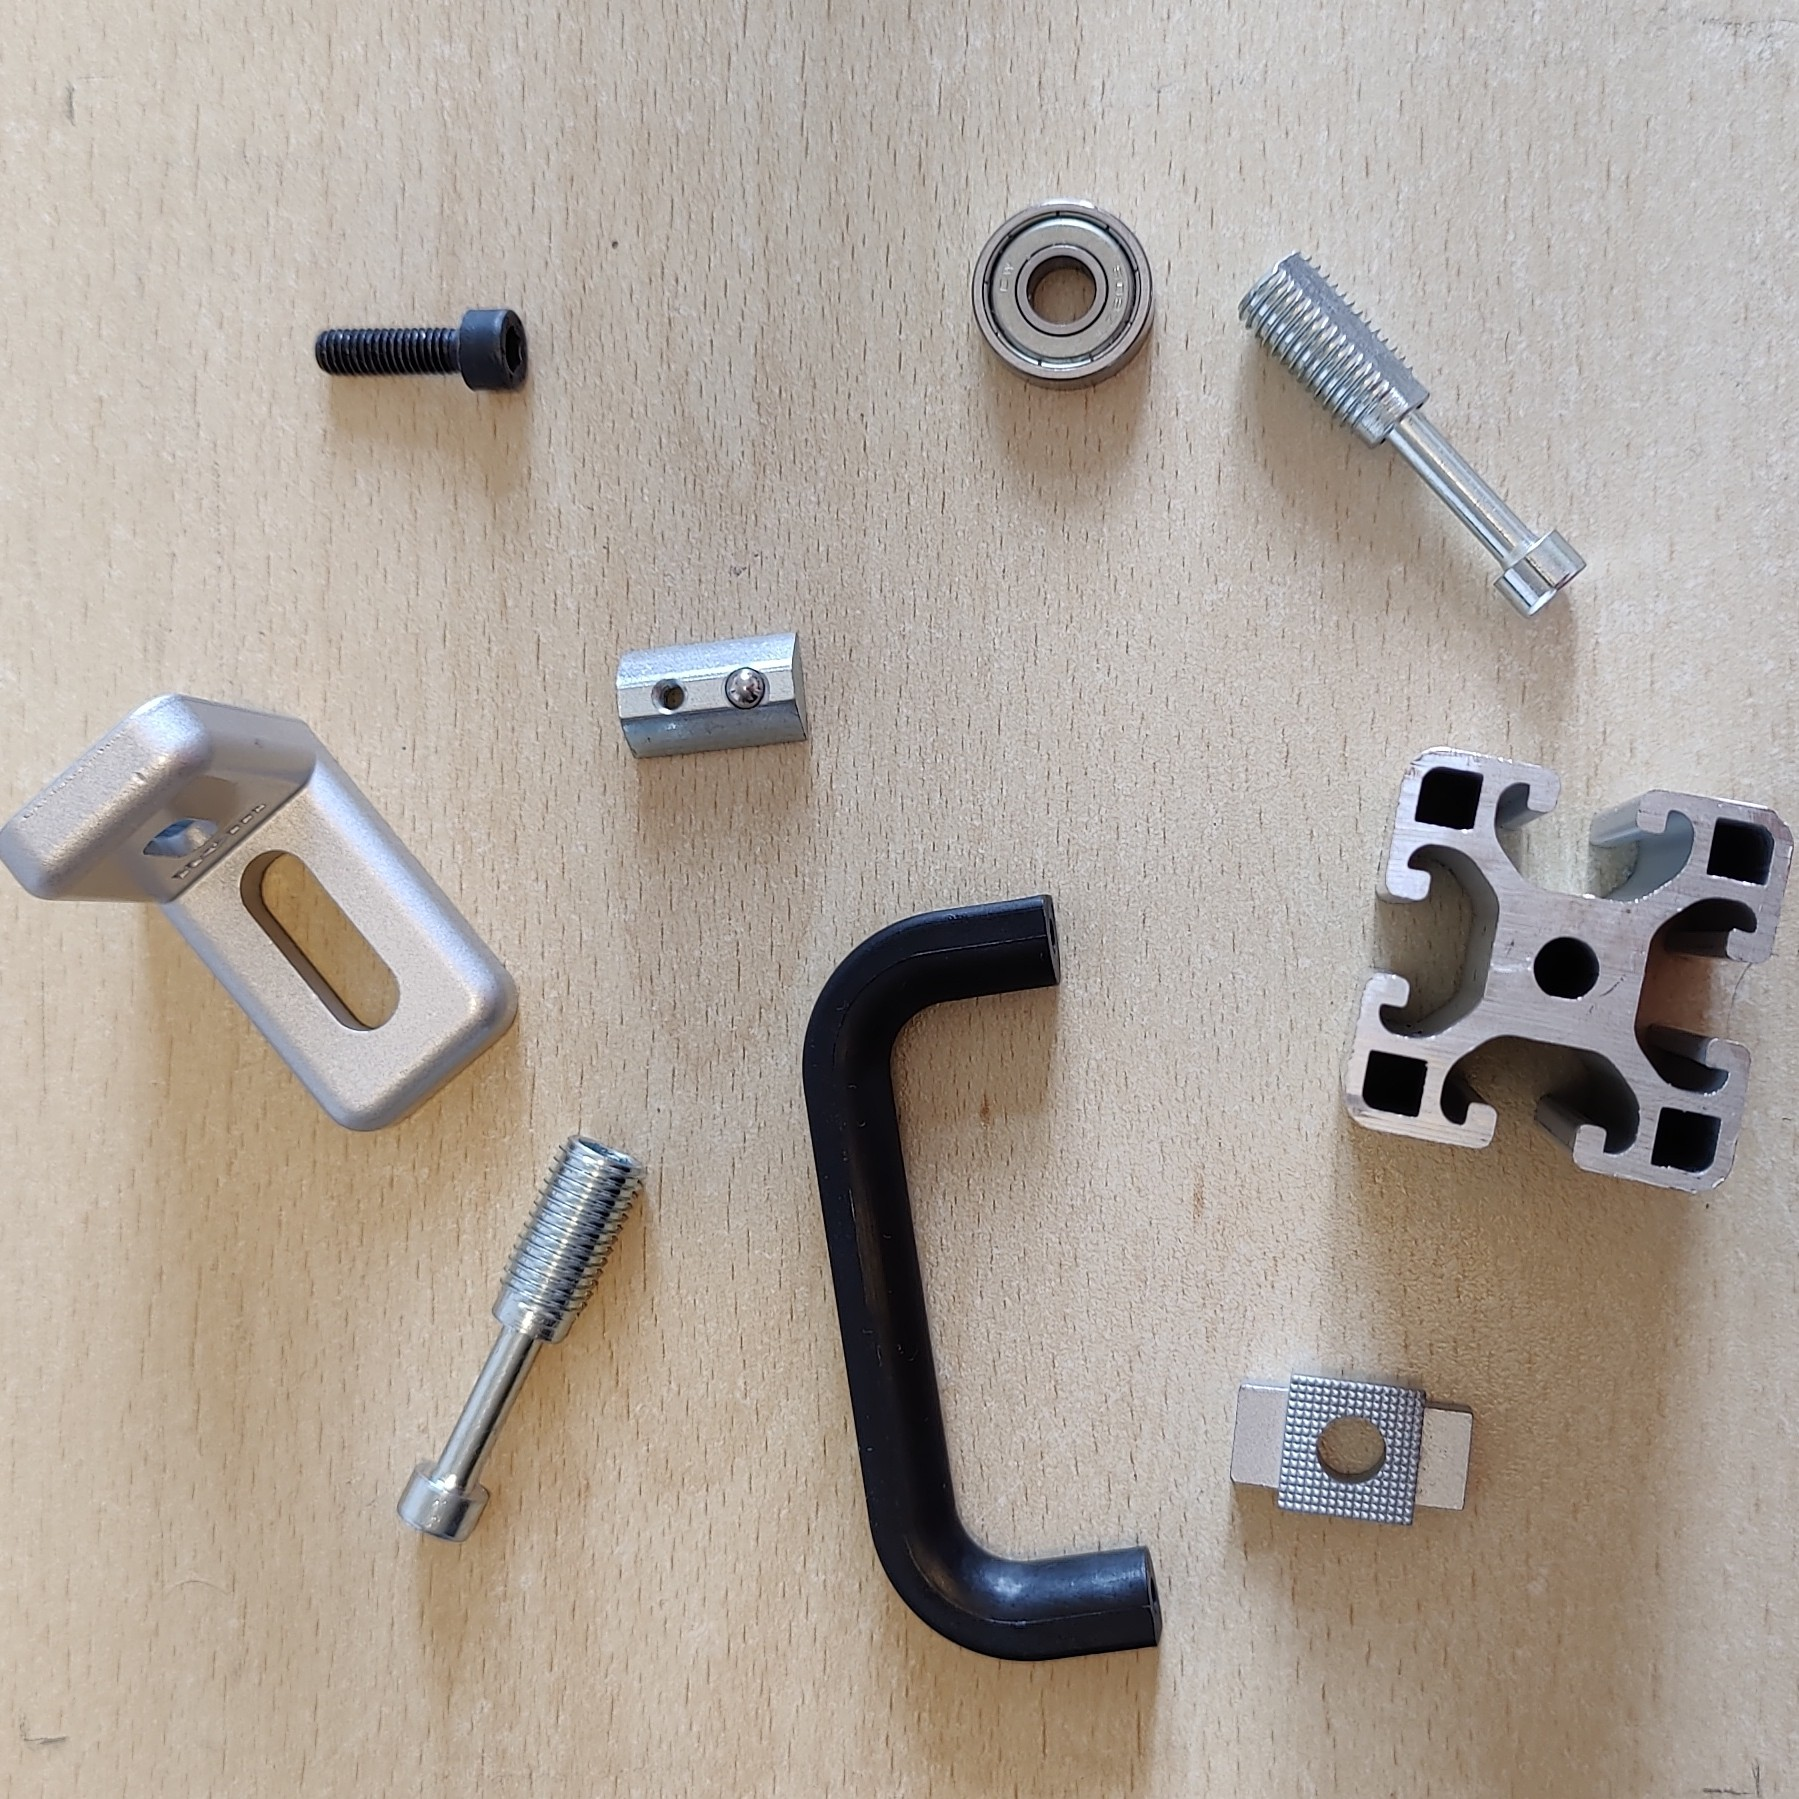Aluminium Extension: (1343, 746, 1797, 1198)
Ball Bearing: (970, 199, 1156, 390)
Multiwinkel: (2, 690, 521, 1133)
Pull Handle: (801, 891, 1165, 1664)
Shoulder Socket Head Cap Screw: (1236, 249, 1590, 623), (394, 1132, 649, 1545)
Socket Head Cap Screw: (311, 306, 530, 395)
T Nut Square: (1227, 1367, 1478, 1526)
T Spring Nut: (614, 629, 811, 761)
